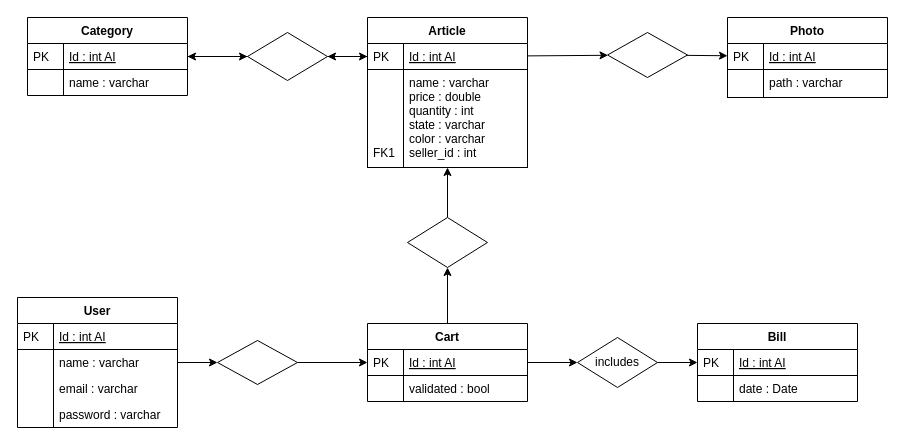
This 905x448 diagram has some shape labels left out. Each missing label, with the centre of its shape:
contains: point 447,242
have: point 287,56
link: point 647,55
pocess: point 257,362
